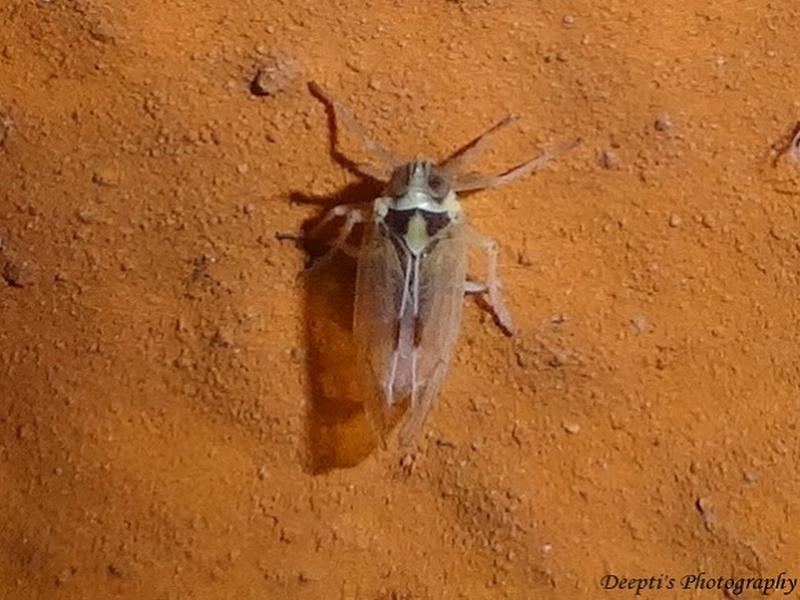White_backed_plant_hopper: (304, 150, 508, 429)
